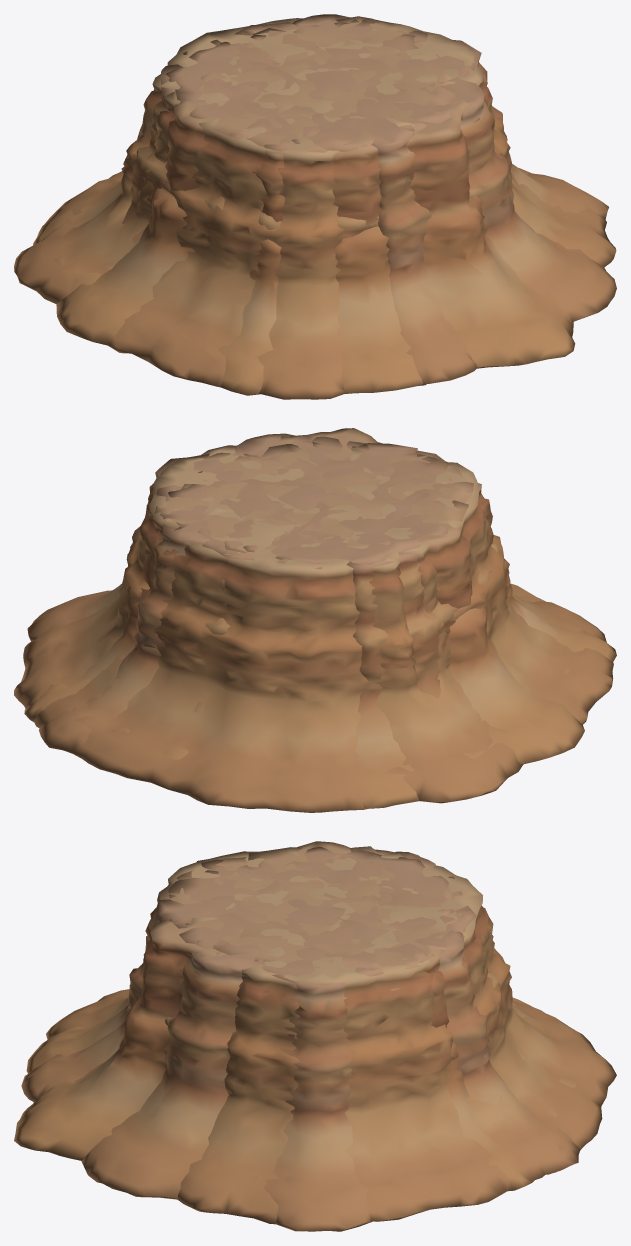
File: rocks.glb
The picture shows the model from 3 angles, top to bottom: view 1: azimuth 30°, elevation 25°; view 2: azimuth 150°, elevation 25°; view 3: azimuth 270°, elevation 25°; orthographic projection.
Visible parts, largest first — view 1: mesa1, mesa2, mesa3, mesa0; view 2: mesa1, mesa2, mesa3, mesa0; view 3: mesa1, mesa3, mesa2, mesa0.
Boxes of the visible parts, box(x1,y1,x2,y2) form: mesa1: box(14, 18, 616, 399); mesa2: box(56, 16, 575, 395); mesa3: box(159, 14, 616, 384); mesa0: box(33, 22, 455, 302); mesa1: box(14, 445, 613, 812); mesa2: box(24, 428, 616, 764); mesa3: box(27, 433, 466, 753); mesa0: box(163, 442, 522, 808); mesa1: box(46, 846, 616, 1224); mesa3: box(21, 847, 580, 1231); mesa2: box(14, 841, 557, 1191); mesa0: box(143, 849, 578, 1088).
Size of what is drawn, in the model's own units: 684 by 232 by 666.
